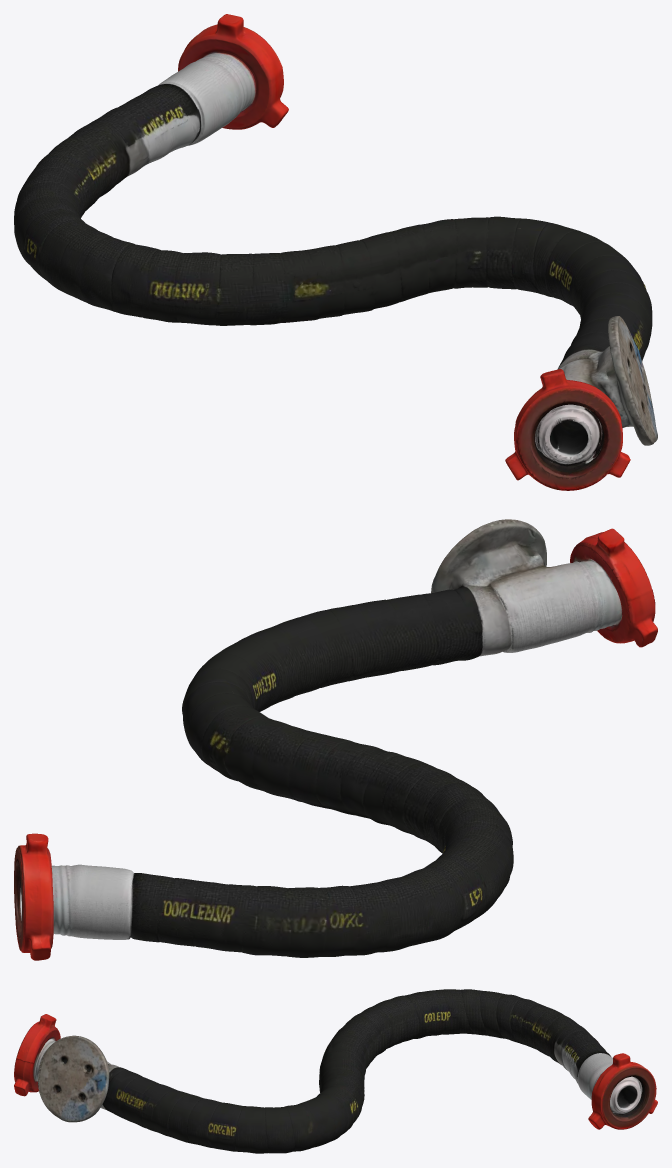
Rendered from mangueraCoflexip.glb.
3 renders of one model, top to bottom at view 1: azimuth 30°, elevation 25°; view 2: azimuth 150°, elevation 25°; view 3: azimuth 270°, elevation 25°, orthographic. The views are drawn at different scales.
Parts seen in each view (by area): view 1: tripo_node_ef14de7d-bf76-4887-a9e9-d8bd882bc589; view 2: tripo_node_ef14de7d-bf76-4887-a9e9-d8bd882bc589; view 3: tripo_node_ef14de7d-bf76-4887-a9e9-d8bd882bc589.
Boxes of the visible parts, left/top/right/bottom form: tripo_node_ef14de7d-bf76-4887-a9e9-d8bd882bc589: left=14, top=14, right=657, bottom=490; tripo_node_ef14de7d-bf76-4887-a9e9-d8bd882bc589: left=14, top=519, right=657, bottom=960; tripo_node_ef14de7d-bf76-4887-a9e9-d8bd882bc589: left=14, top=989, right=657, bottom=1153.
Size of the model in its own units: 0.4903 by 0.1329 by 0.9804.
Materials: 1 (1 with a texture image).
